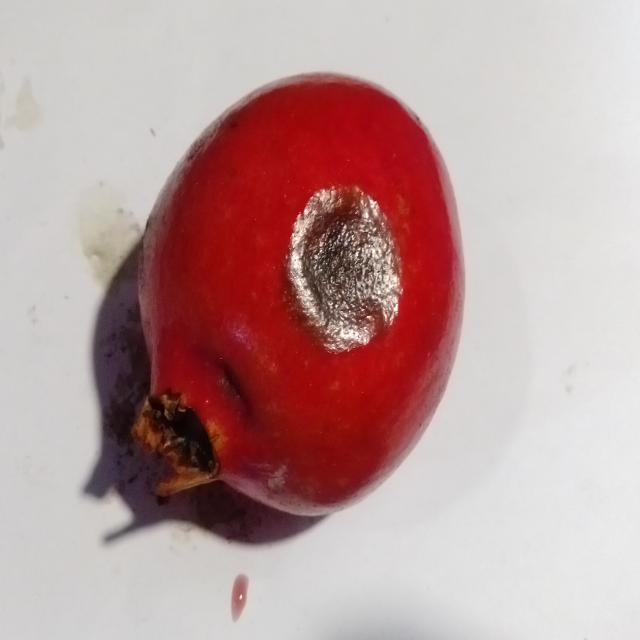Rotten: (117, 66, 469, 519)
